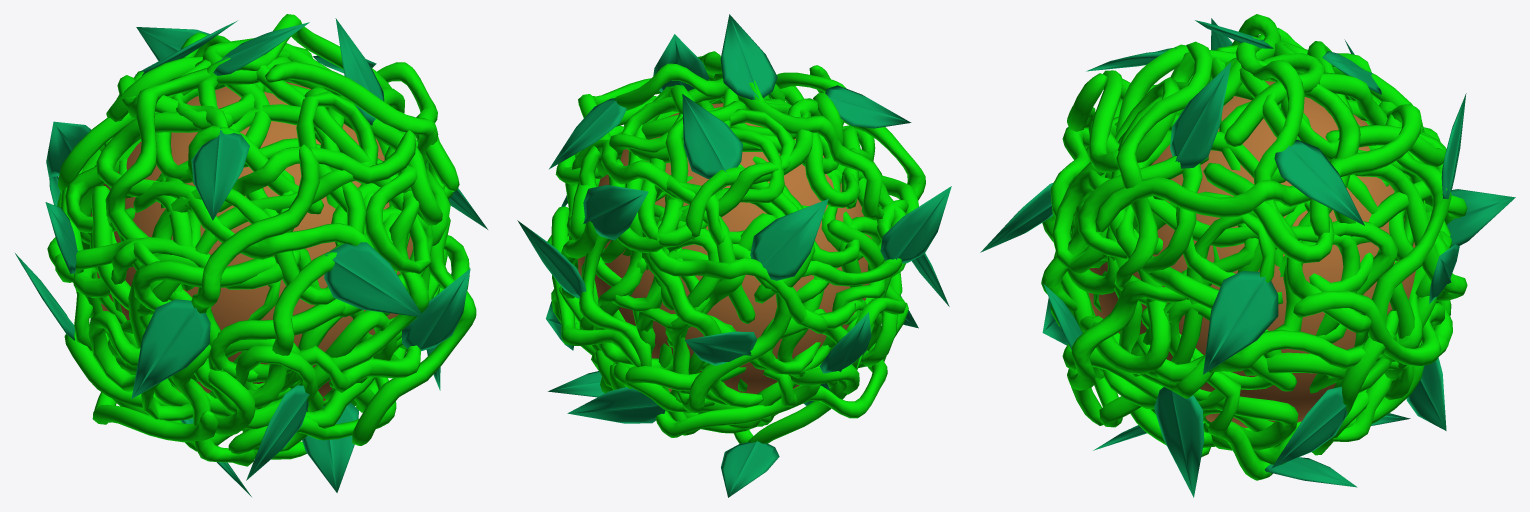
File: Vine Ball.fbx
3 renders of one model, left to right at view 1: azimuth 30°, elevation 25°; view 2: azimuth 150°, elevation 25°; view 3: azimuth 270°, elevation 25°, orthographic. The views are drawn at different scales.
Parts seen in each view (by area): view 1: pasted__pasted__pasted__pasted__pasted__pCube1 (×5), pasted__pasted__pasted__pasted__pasted__pasted__pCube1 (×4), pasted__pasted__pCube1 (×3), pasted__pasted__pCube2 (×6), pasted__pasted__pasted__pasted__pCube1 (×2), pasted__pasted__pasted__pCube1 (×4), pasted__pCube1 (×2), pasted__pasted__pasted__pasted__pasted__pasted__pasted__pCub (×2), pSphere1, pCube1, pasted__pCube2 (×2), pasted__pasted__pasted__pasted__pasted__pCube2 (×2) (+4 smaller); view 2: pasted__pasted__pasted__pasted__pCube1 (×6), pasted__pasted__pasted__pasted__pasted__pCube1 (×5), pasted__pasted__pasted__pCube1 (×4), pasted__pasted__pCube1 (×4), pasted__pasted__pCube2 (×5), pasted__pasted__pasted__pasted__pasted__pasted__pCube1 (×4), pSphere1, pasted__pasted__pasted__pCube2 (×3), pasted__pCube1 (×2), pasted__pasted__pasted__pasted__pasted__pasted__pasted__pCub (×2), pasted__pasted__pasted__pasted__pCube2 (×3), pasted__pCube2 (×2) (+3 smaller); view 3: pasted__pasted__pasted__pasted__pasted__pCube1 (×5), pasted__pasted__pasted__pCube1 (×5), pasted__pasted__pCube1 (×5), pasted__pasted__pasted__pasted__pCube1 (×5), pasted__pasted__pasted__pasted__pasted__pasted__pCube1 (×4), pasted__pasted__pasted__pCube2 (×6), pSphere1, pasted__pasted__pasted__pasted__pasted__pasted__pasted__pCub (×2), pasted__pasted__pasted__pasted__pCube2 (×3), pasted__pCube1 (×2), pCube1, pasted__pCube2 (×2) (+3 smaller).
Part boxes in pixels (x1,y1,x2,y2): pasted__pasted__pasted__pasted__pasted__pCube1 (×5): (73, 56, 459, 451); pasted__pasted__pasted__pasted__pasted__pasted__pCube1 (×4): (64, 14, 391, 442); pasted__pasted__pCube1 (×3): (88, 35, 450, 402); pasted__pasted__pCube2 (×6): (46, 27, 470, 480); pasted__pasted__pasted__pasted__pCube1 (×2): (47, 91, 378, 430); pasted__pasted__pasted__pCube1 (×4): (58, 59, 431, 466); pasted__pCube1 (×2): (133, 112, 453, 411); pasted__pasted__pasted__pasted__pasted__pasted__pasted__pCub (×2): (99, 125, 476, 445); pSphere1: (90, 81, 412, 401); pCube1: (172, 65, 433, 389); pasted__pCube2 (×2): (15, 242, 423, 340); pasted__pasted__pasted__pasted__pasted__pCube2 (×2): (213, 22, 358, 492); pasted__pasted__pasted__pasted__pCube1 (×6): (551, 73, 908, 413); pasted__pasted__pasted__pasted__pasted__pCube1 (×5): (555, 78, 906, 437); pasted__pasted__pasted__pCube1 (×4): (561, 109, 866, 435); pasted__pasted__pCube1 (×4): (551, 96, 906, 407); pasted__pasted__pCube2 (×5): (583, 85, 949, 497); pasted__pasted__pasted__pasted__pasted__pasted__pCube1 (×4): (575, 63, 925, 418); pSphere1: (578, 103, 871, 394); pasted__pasted__pasted__pCube2 (×3): (517, 94, 743, 423); pasted__pCube1 (×2): (575, 125, 875, 329); pasted__pasted__pasted__pasted__pasted__pasted__pasted__pCub (×2): (684, 69, 846, 443); pasted__pasted__pasted__pasted__pCube2 (×3): (548, 34, 709, 397); pasted__pCube2 (×2): (684, 312, 871, 373); pasted__pasted__pasted__pasted__pasted__pCube1 (×5): (1087, 14, 1448, 413); pasted__pasted__pasted__pCube1 (×5): (1052, 41, 1467, 455); pasted__pasted__pCube1 (×5): (1050, 41, 1467, 410); pasted__pasted__pasted__pasted__pCube1 (×5): (1071, 77, 1452, 447); pasted__pasted__pasted__pasted__pasted__pasted__pCube1 (×4): (1067, 36, 1424, 480); pasted__pasted__pasted__pCube2 (×6): (1154, 51, 1459, 497); pSphere1: (1088, 81, 1415, 427); pasted__pasted__pasted__pasted__pasted__pasted__pasted__pCub (×2): (1067, 44, 1373, 425); pasted__pasted__pasted__pasted__pCube2 (×3): (1170, 62, 1364, 487); pasted__pCube1 (×2): (1050, 127, 1440, 377); pCube1: (1041, 44, 1310, 315); pasted__pCube2 (×2): (980, 182, 1515, 252).
Size of the model in its own units: 26.12 by 25.21 by 26.82.
